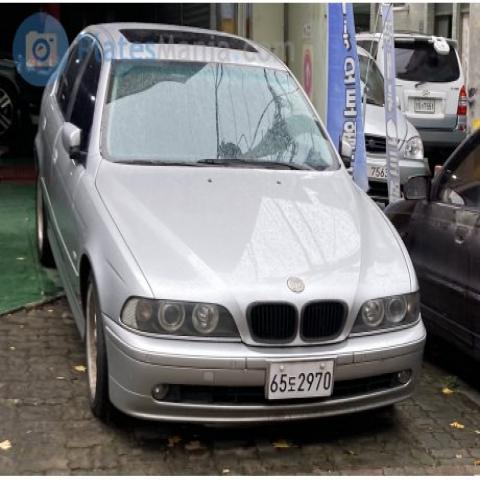LP: (258, 352, 342, 406)
